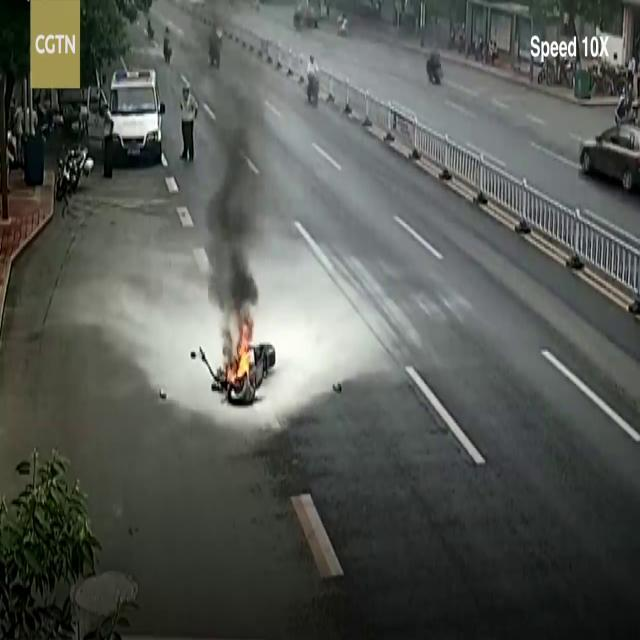Fire: (228, 321, 258, 383)
Smoke: (198, 27, 292, 328)
